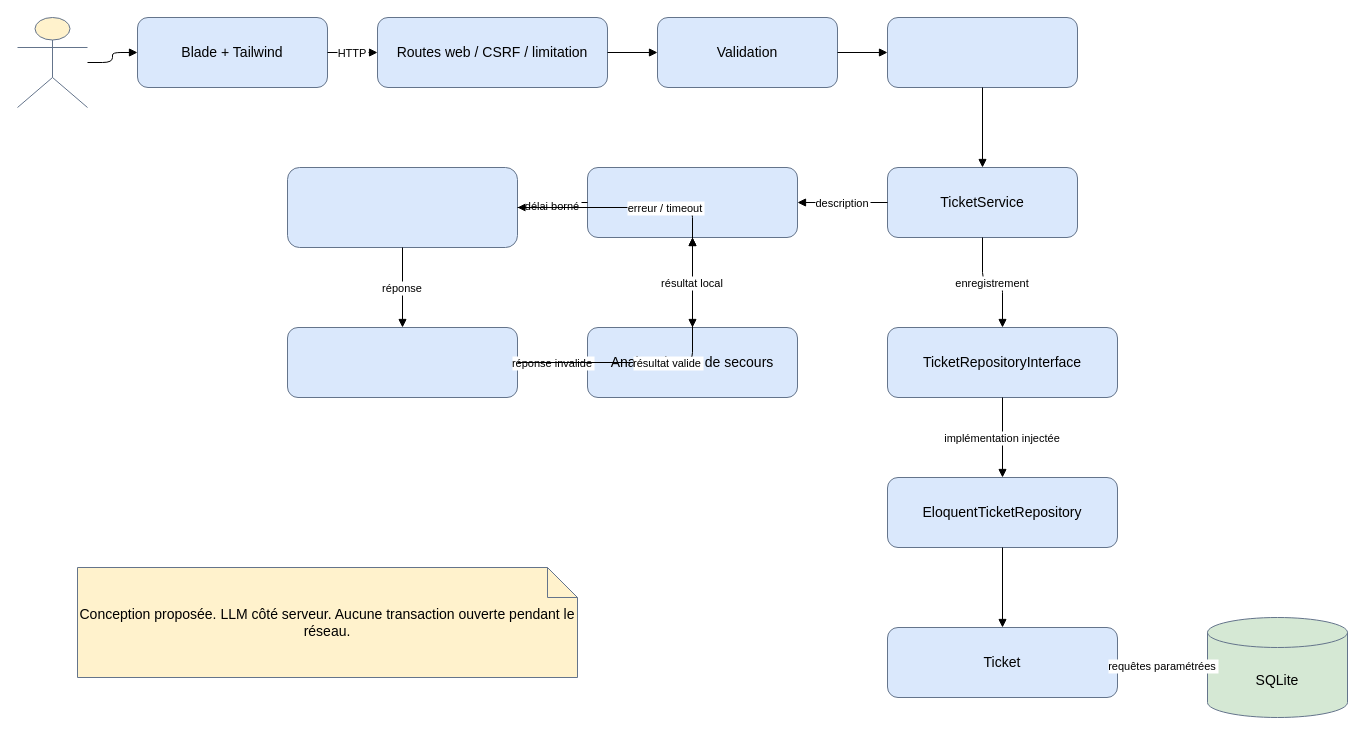
The diagram is 1365 pixels wide and 735 high, and some of its shapes have lost their labels. The shapes that lost their labels are listed below. From the top down, each one's centre as x and y in pixels, then its label:
At point (52, 62): "Support".
At point (982, 52): "TicketController".
At point (402, 207): "Adaptateur LLM / fournisseur externe".
At point (692, 202): "UrgencyAnalyzer".
At point (402, 362): "Validation du résultat".
